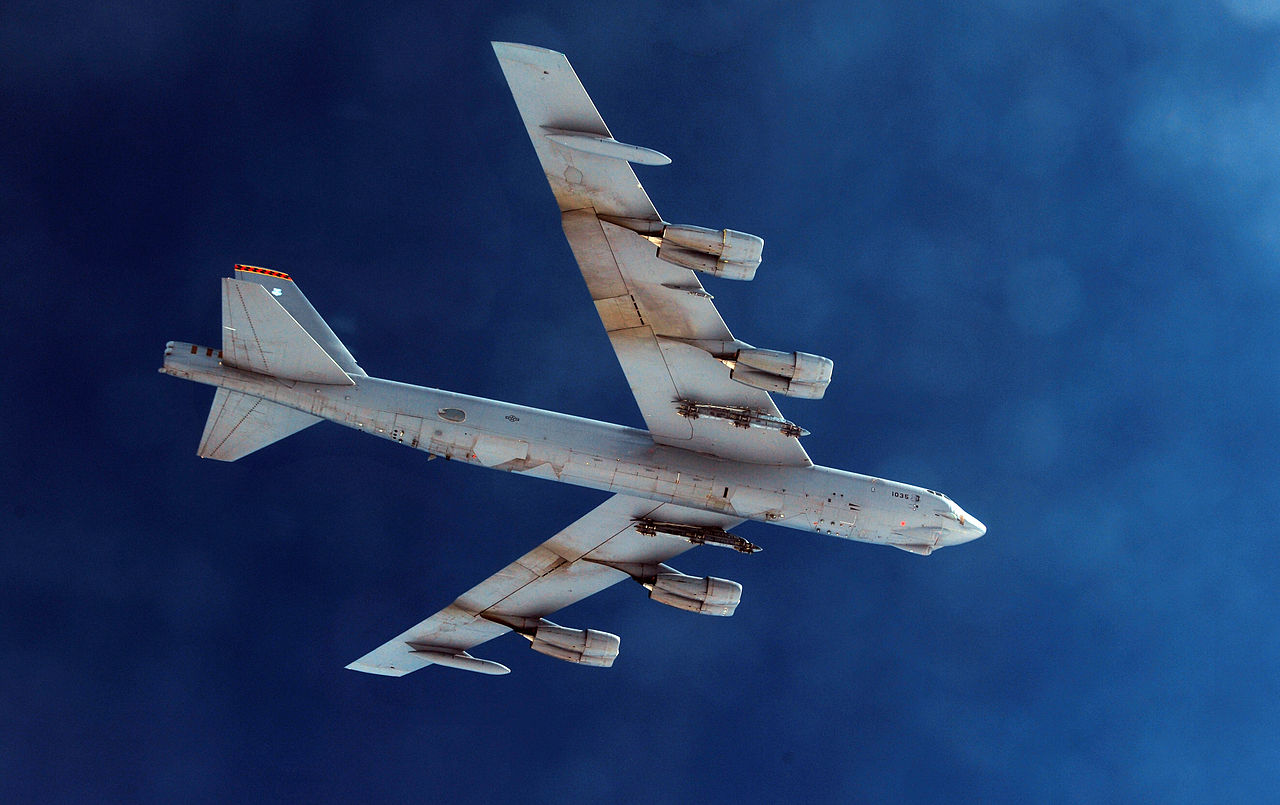B52: (157, 40, 987, 677)
